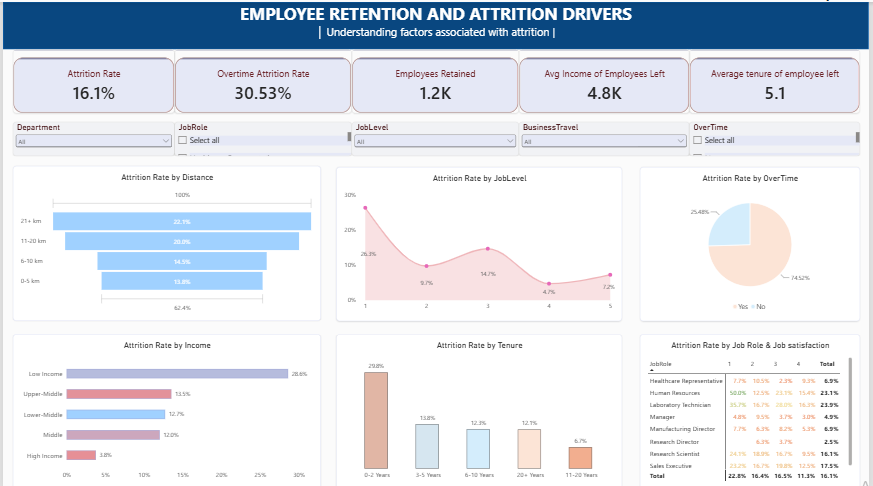

The page's visual inventory and layout, read from the dashboard file:
{"tool":"powerbi","page":{"name":"Dashboard_2","canvas":[1920,1080],"ordinal":1},"visuals":[{"type":"shape","box":[0,0,1919.3,104.9],"z":0},{"type":"cardVisual","fields":{"Data":["Measure Table.Overtime Attrition Rate"]},"box":[380.5,104.9,392.6,141.4],"z":1000},{"type":"cardVisual","fields":{"Data":["Measure Table.Employees Left"]},"box":[773.1,104.9,370.7,141.4],"z":2000},{"type":"cardVisual","fields":{"Data":["Measure Table.Avg Income of Employees Left"]},"box":[1143.8,104.9,378,141.4],"z":3000},{"type":"cardVisual","fields":{"Data":["Measure Table.Average tenure of employee left"]},"box":[1521.8,104.9,378,141.4],"z":4000},{"type":"cardVisual","fields":{"Data":["Measure Table.Attrition Rate"]},"box":[21.9,104.9,358.5,141.4],"z":5000},{"type":"pieChart","fields":{"Category":["Employee_Data.OverTime"],"Y":["Measure Table.Attrition Rate"]},"box":[1412.1,365.8,487.8,341.4],"z":6000},{"type":"clusteredColumnChart","title":"Attrition Rate by Tenure","fields":{"Category":["Employee_Data.Tenure Band"],"Y":["Measure Table.Attrition Rate"]},"box":[739,736.5,634.1,343.9],"z":7000},{"type":"clusteredBarChart","title":"Attrition Rate by Income ","fields":{"Category":["Employee_Data.Income Band"],"Y":["Measure Table.Attrition Rate"]},"box":[21.9,736.5,682.9,343.9],"z":8000},{"type":"pivotTable","title":"Attrition Rate by Job Role & Job satisfaction","fields":{"Columns":["Employee_Data.JobSatisfaction"],"Rows":["Employee_Data.JobRole"],"Values":["Measure Table.Attrition Rate"]},"box":[1412.1,736.5,487.8,343.9],"z":9000},{"type":"funnel","title":"Attrition Rate by Distance ","fields":{"Category":["Employee_Data.Distance Band"],"Y":["Measure Table.Attrition Rate"]},"box":[21.9,363.4,682.9,343.9],"z":10000},{"type":"stackedAreaChart","fields":{"Category":["Employee_Data.JobLevel"],"Y":["Measure Table.Attrition Rate"]},"box":[739,365.8,634.1,341.4],"z":11000},{"type":"slicer","fields":{"Values":["Employee_Data.Department"]},"box":[21.9,265.8,358.5,75.6],"z":12000},{"type":"slicer","fields":{"Values":["Employee_Data.JobRole"]},"box":[380.5,265.8,392.6,75.6],"z":13000},{"type":"slicer","fields":{"Values":["Employee_Data.JobLevel"]},"box":[773.1,265.8,370.7,75.6],"z":14000},{"type":"slicer","title":"Business Travel","fields":{"Values":["Employee_Data.BusinessTravel"]},"box":[1143.8,265.8,378,75.6],"z":15000},{"type":"slicer","fields":{"Values":["Employee_Data.OverTime"]},"box":[1521.8,265.8,378,75.6],"z":16000},{"type":"textbox","box":[0,0,1919.3,85.4],"z":17000}]}

Visuals, with their boxes in screenshot pixels (x1, y1, x2, y2), scaled from the page's 1920x1080 canvas onto the 873x486 screenshot:
shape: <region>0, 0, 872, 47</region>
cardVisual - Measure Table.Overtime Attrition Rate: <region>173, 47, 352, 111</region>
cardVisual - Measure Table.Employees Left: <region>352, 47, 520, 111</region>
cardVisual - Measure Table.Avg Income of Employees Left: <region>520, 47, 692, 111</region>
cardVisual - Measure Table.Average tenure of employee left: <region>692, 47, 864, 111</region>
cardVisual - Measure Table.Attrition Rate: <region>10, 47, 173, 111</region>
pieChart - Employee_Data.OverTime x Measure Table.Attrition Rate: <region>642, 165, 864, 318</region>
"Attrition Rate by Tenure" clusteredColumnChart: <region>336, 331, 624, 485</region>
"Attrition Rate by Income " clusteredBarChart: <region>10, 331, 320, 485</region>
"Attrition Rate by Job Role & Job satisfaction" pivotTable: <region>642, 331, 864, 485</region>
"Attrition Rate by Distance " funnel: <region>10, 164, 320, 318</region>
stackedAreaChart - Employee_Data.JobLevel x Measure Table.Attrition Rate: <region>336, 165, 624, 318</region>
slicer - Employee_Data.Department: <region>10, 120, 173, 154</region>
slicer - Employee_Data.JobRole: <region>173, 120, 352, 154</region>
slicer - Employee_Data.JobLevel: <region>352, 120, 520, 154</region>
"Business Travel" slicer: <region>520, 120, 692, 154</region>
slicer - Employee_Data.OverTime: <region>692, 120, 864, 154</region>
textbox: <region>0, 0, 872, 38</region>
